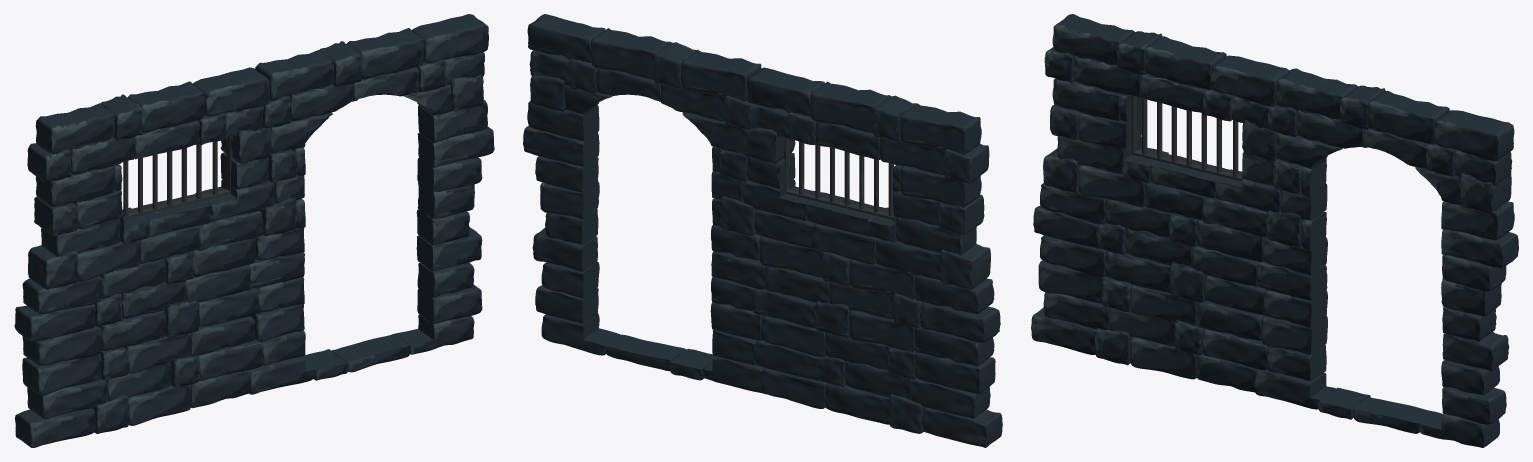
The model's file is Wall Door.glb.
3 renders of one model, left to right at view 1: azimuth 30°, elevation 25°; view 2: azimuth 150°, elevation 25°; view 3: azimuth 330°, elevation 25°, orthographic.
Parts seen in each view (by area): view 1: Object005; view 2: Object005; view 3: Object005.
Boxes of the visible parts, <box> form: Object005: <box>14,14,494,447</box>; Object005: <box>523,14,1002,447</box>; Object005: <box>1031,14,1518,447</box>.
Bounding box in the file's own units: 3.47 × 2.27 × 0.2821.
1 material, 1 textured.
